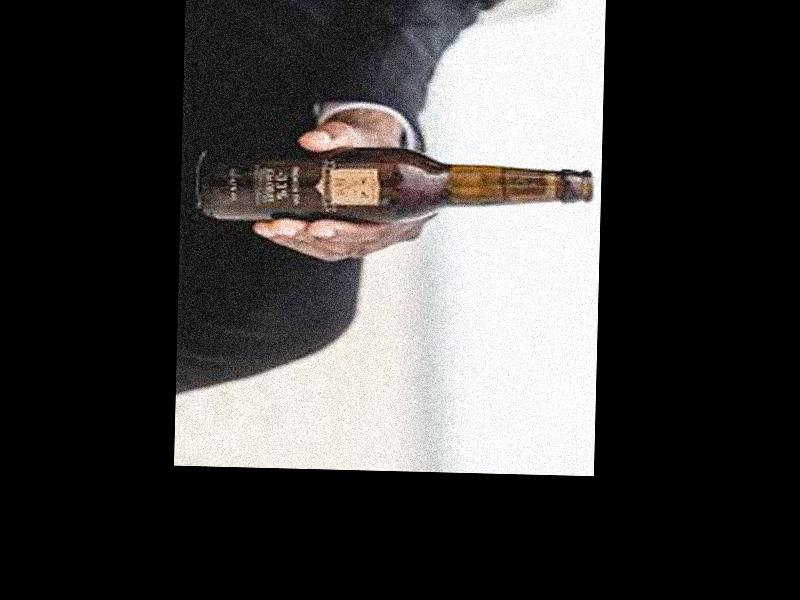Beer: (194, 145, 594, 229)
